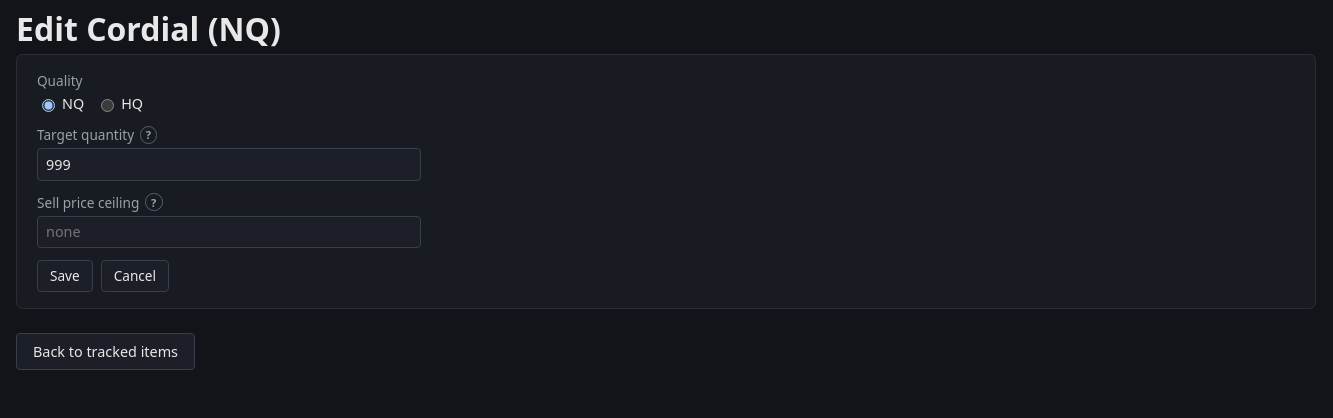
Test: EditTrackedItemContainer › should stay put saying something went wrong when saving fails outright
Replace the text in the field labelled "Target quantity" with "60" at (229, 164), box [37, 148, 421, 181]
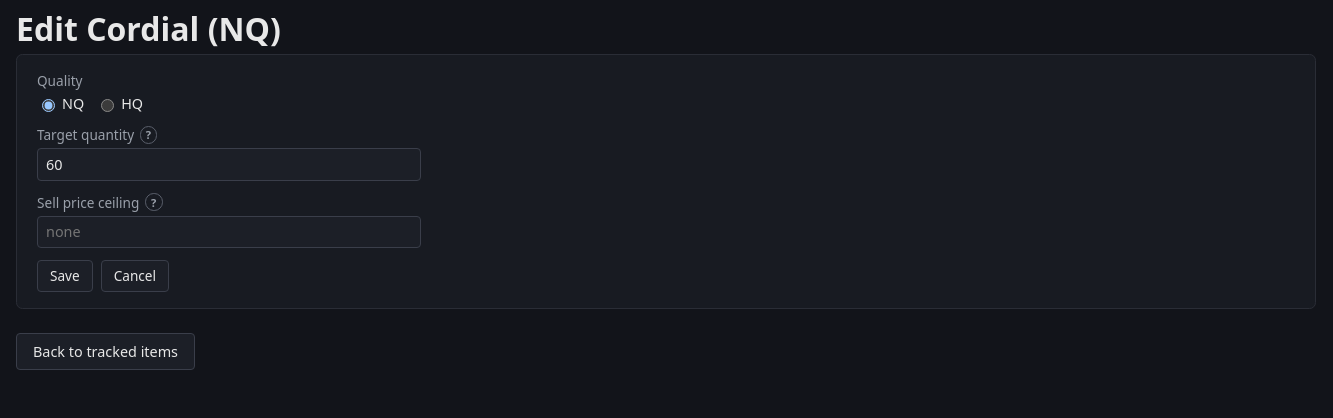
Click the button "Save" at (65, 276), box [37, 260, 93, 292]
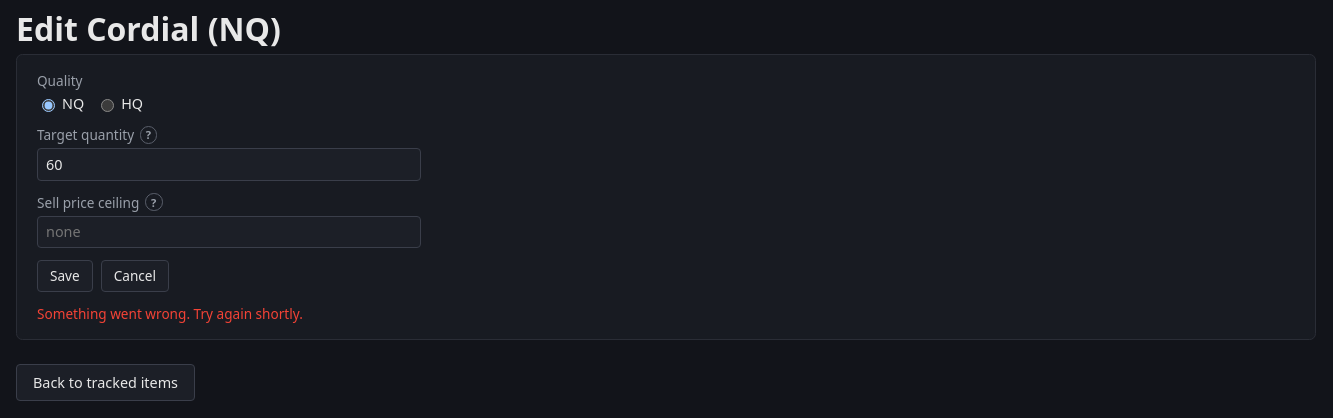
Result: the message reads "Something went wrong. Try again shortly." at [37, 304, 303, 323]
